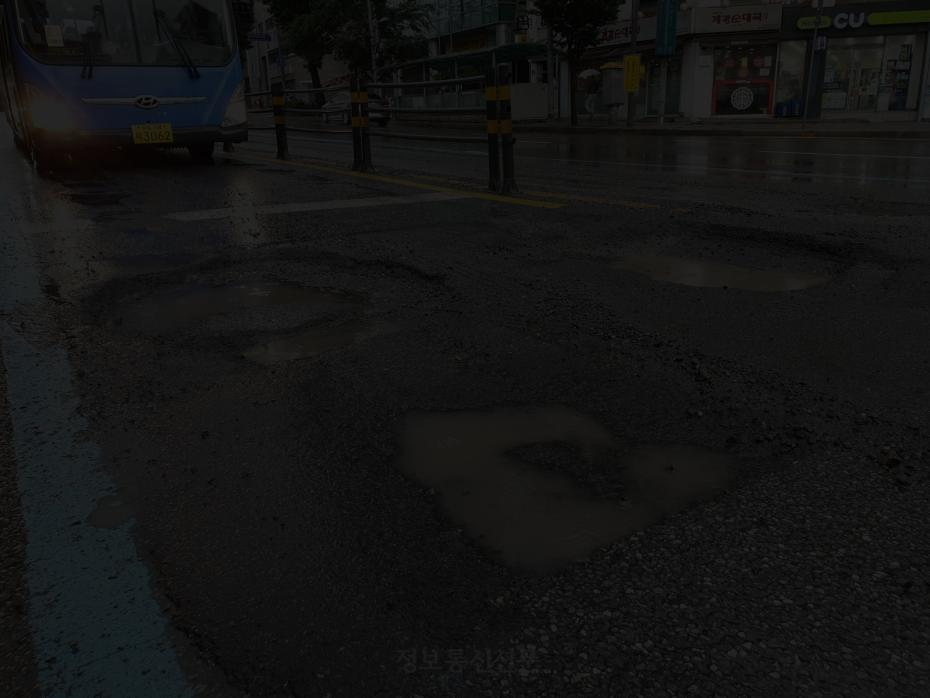pothole: (339, 369, 810, 584), (35, 222, 469, 373), (581, 171, 863, 301)
